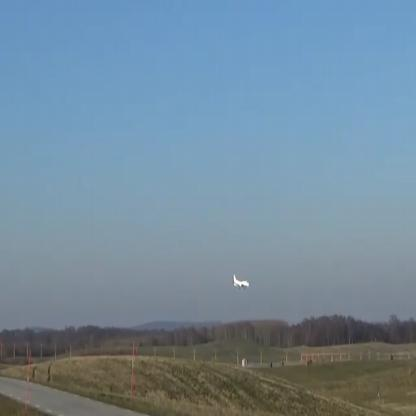CIV_Plane: (232, 274, 250, 290)
